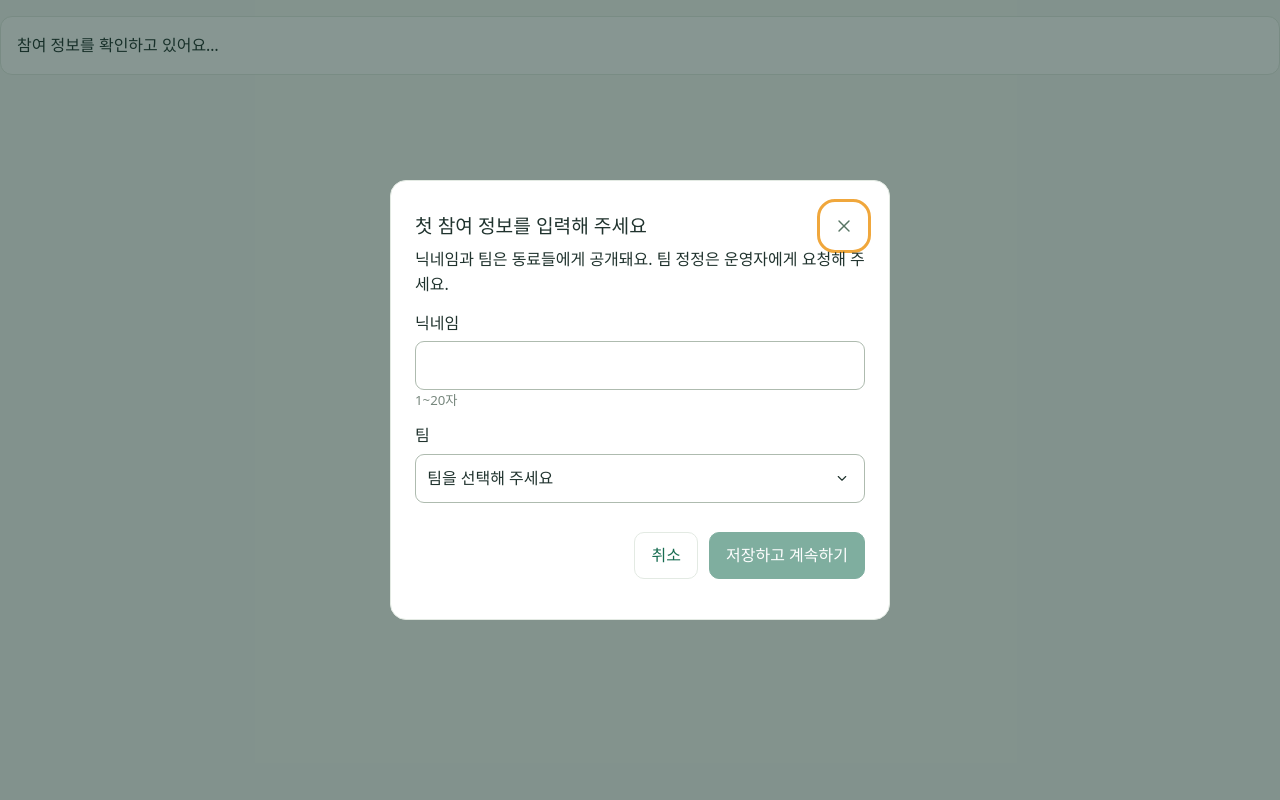
Test case: guards direct registration URLs and returns to the detail on cancellation
What coordinates should you click on to do the following:
click the button "취소"
I would click on:
 (666, 556)
Its box is [634,532,698,579].
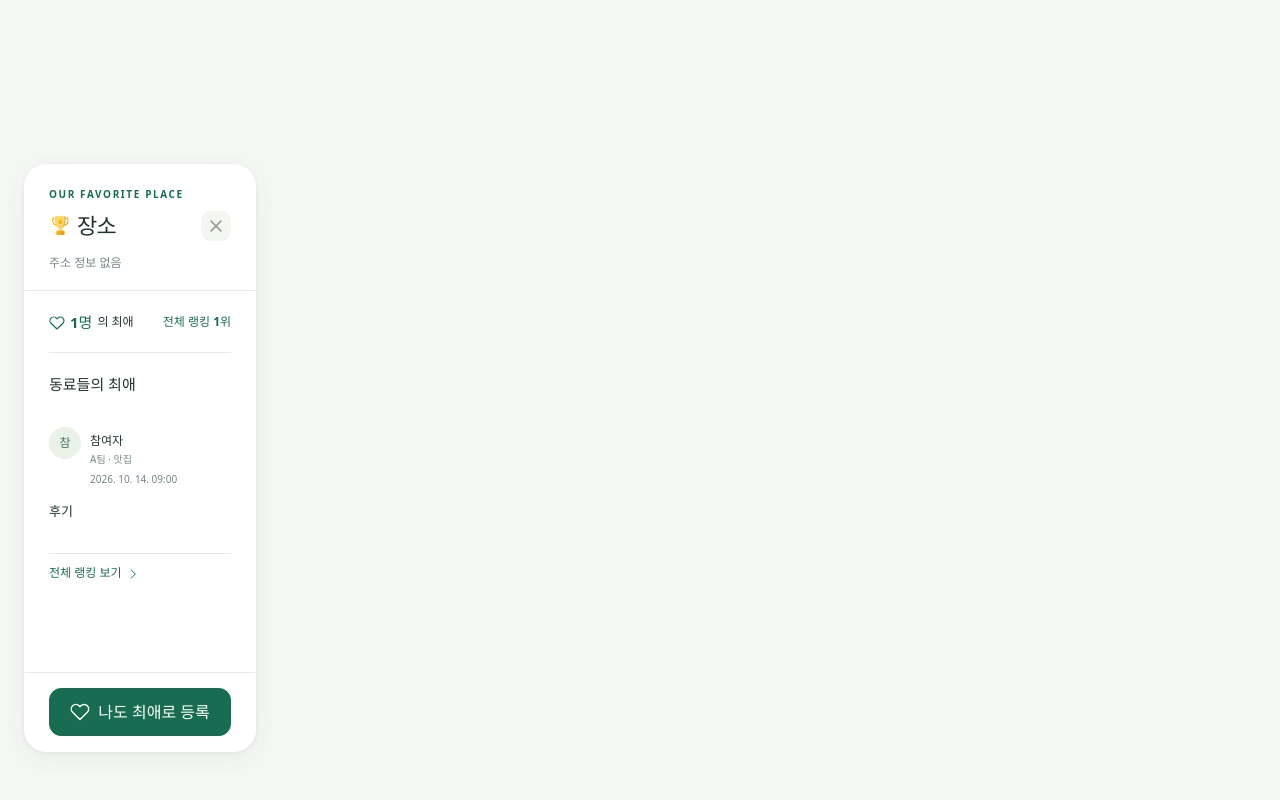
Now the heading "장소" is shown, box [49,211,116,240]
